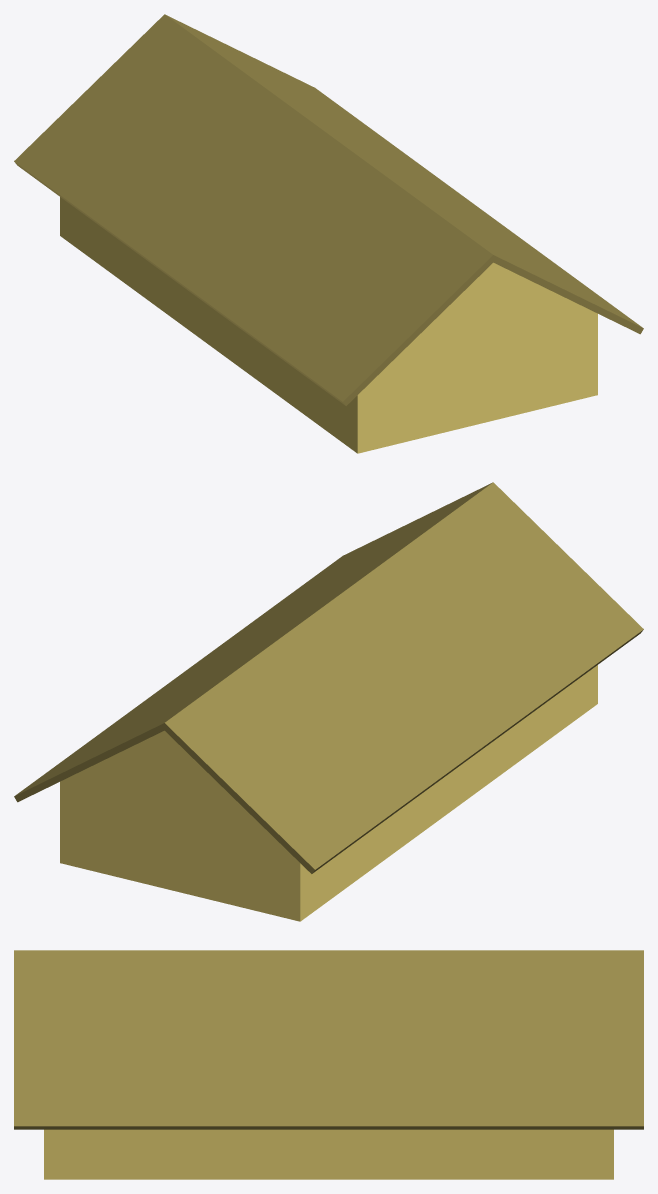
The model's file is result.glb.
3 views of the same model, one above another, from view 1: azimuth 30°, elevation 25°; view 2: azimuth 150°, elevation 25°; view 3: azimuth 270°, elevation 25° (orthographic). The views are drawn at different scales.
Parts seen in each view (by area): view 1: 101d62d3-d7b9-465b-84c1-1bf847a9a5e3__undefined (×2), 82452c3e-4c06-4d72-8714-ce60c2dfa676__undefined; view 2: 101d62d3-d7b9-465b-84c1-1bf847a9a5e3__undefined (×2), 82452c3e-4c06-4d72-8714-ce60c2dfa676__undefined; view 3: 101d62d3-d7b9-465b-84c1-1bf847a9a5e3__undefined, 82452c3e-4c06-4d72-8714-ce60c2dfa676__undefined.
Boxes of the visible parts, x1,y1,x2,y2 form: 101d62d3-d7b9-465b-84c1-1bf847a9a5e3__undefined (×2): (14,14,643,405); 82452c3e-4c06-4d72-8714-ce60c2dfa676__undefined: (60,197,597,453); 101d62d3-d7b9-465b-84c1-1bf847a9a5e3__undefined (×2): (14,482,643,873); 82452c3e-4c06-4d72-8714-ce60c2dfa676__undefined: (60,665,597,921); 101d62d3-d7b9-465b-84c1-1bf847a9a5e3__undefined: (14,950,643,1129); 82452c3e-4c06-4d72-8714-ce60c2dfa676__undefined: (44,1129,613,1179).
Bounding box in the file's own units: 1251 × 718 × 2365.
